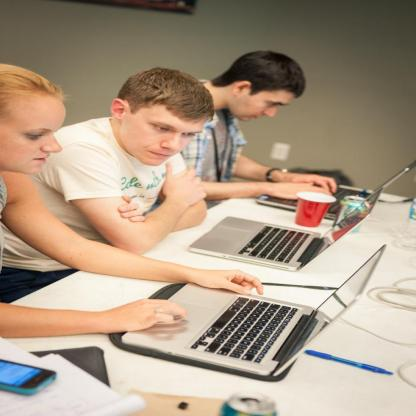board: (123, 242, 386, 378), (188, 187, 384, 270), (255, 158, 415, 218)
